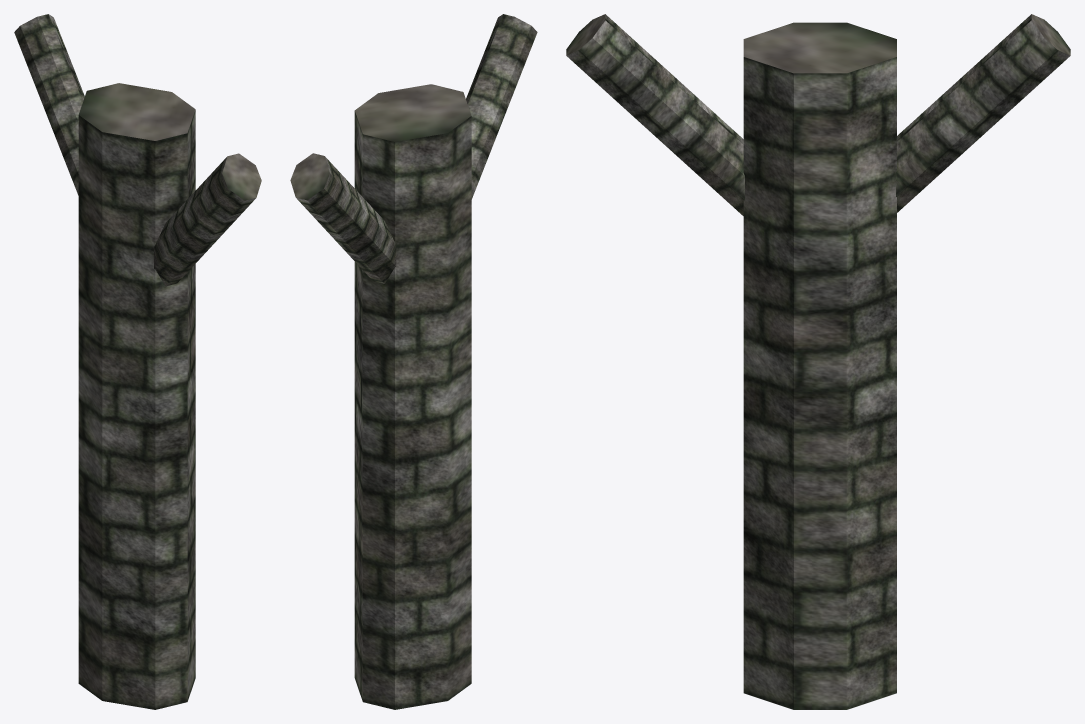
The model's file is SuportePlataforma1.fbx.
3 renders of one model, left to right at view 1: azimuth 30°, elevation 25°; view 2: azimuth 150°, elevation 25°; view 3: azimuth 270°, elevation 25°, orthographic. The views are drawn at different scales.
Parts seen in each view (by area): view 1: Cube.082; view 2: Cube.082; view 3: Cube.082.
Boxes of the visible parts, left/top/right/bottom form: Cube.082: left=14, top=14, right=261, bottom=709; Cube.082: left=290, top=14, right=537, bottom=709; Cube.082: left=566, top=14, right=1070, bottom=709.
Bounding box in the file's own units: 107 × 652 × 447.
